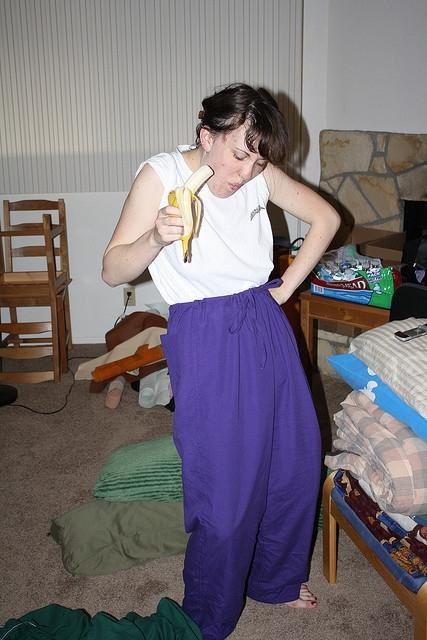banana: (168, 164, 214, 264)
